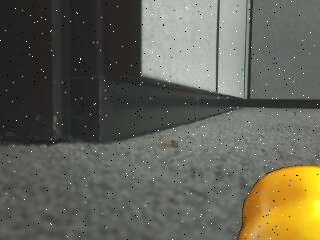Capsicum: (234, 166, 320, 240)
